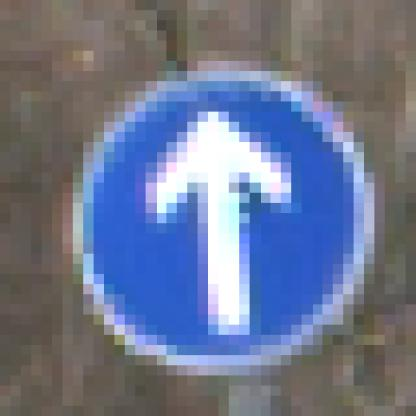AheadOnly: (63, 62, 365, 356)
